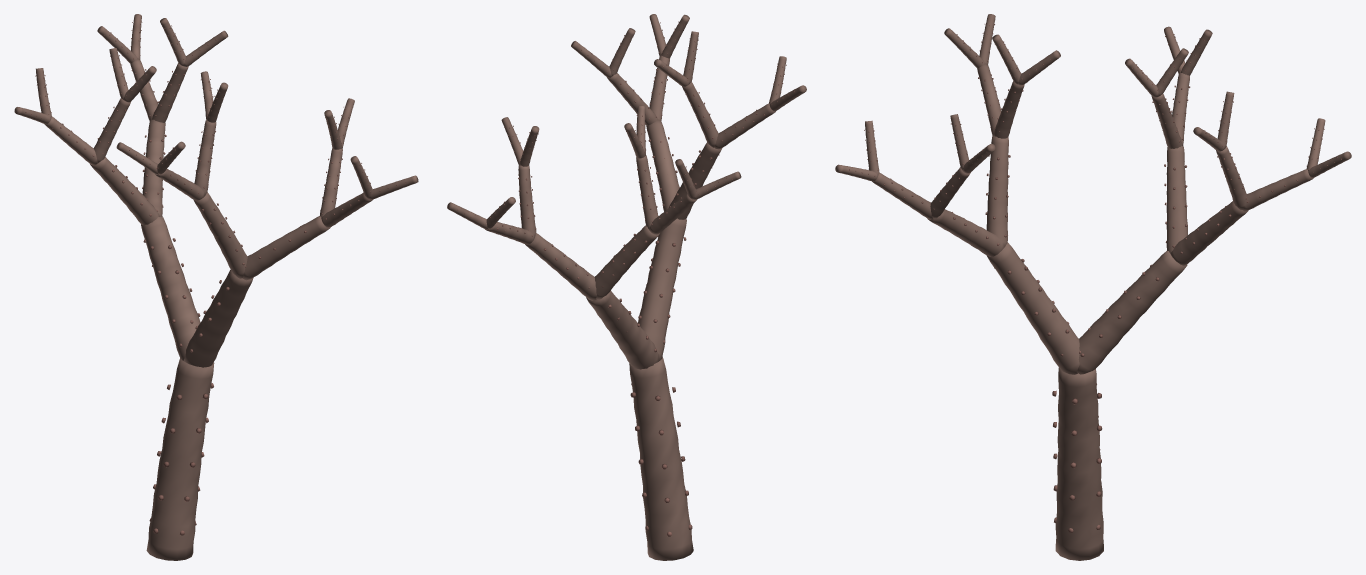
Rendered from branching-tabulate-coral.glb.
3 views of the same model, side by side, from view 1: azimuth 30°, elevation 25°; view 2: azimuth 150°, elevation 25°; view 3: azimuth 270°, elevation 25° (orthographic). The views are drawn at different scales.
Parts seen in each view (by area): view 1: branching-tabulate-coral; view 2: branching-tabulate-coral; view 3: branching-tabulate-coral.
Part boxes in pixels (x1,y1,x2,y2): branching-tabulate-coral: (14,14,418,560); branching-tabulate-coral: (447,14,806,560); branching-tabulate-coral: (835,14,1351,560).
Size of the model in its own units: 0.0785 by 0.1458 by 0.1304.
